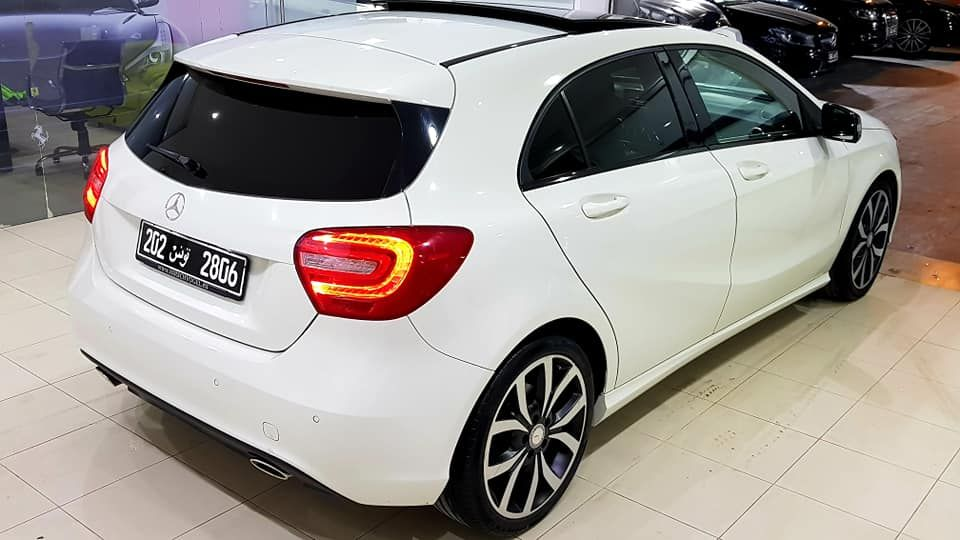LP: (135, 221, 247, 299)
